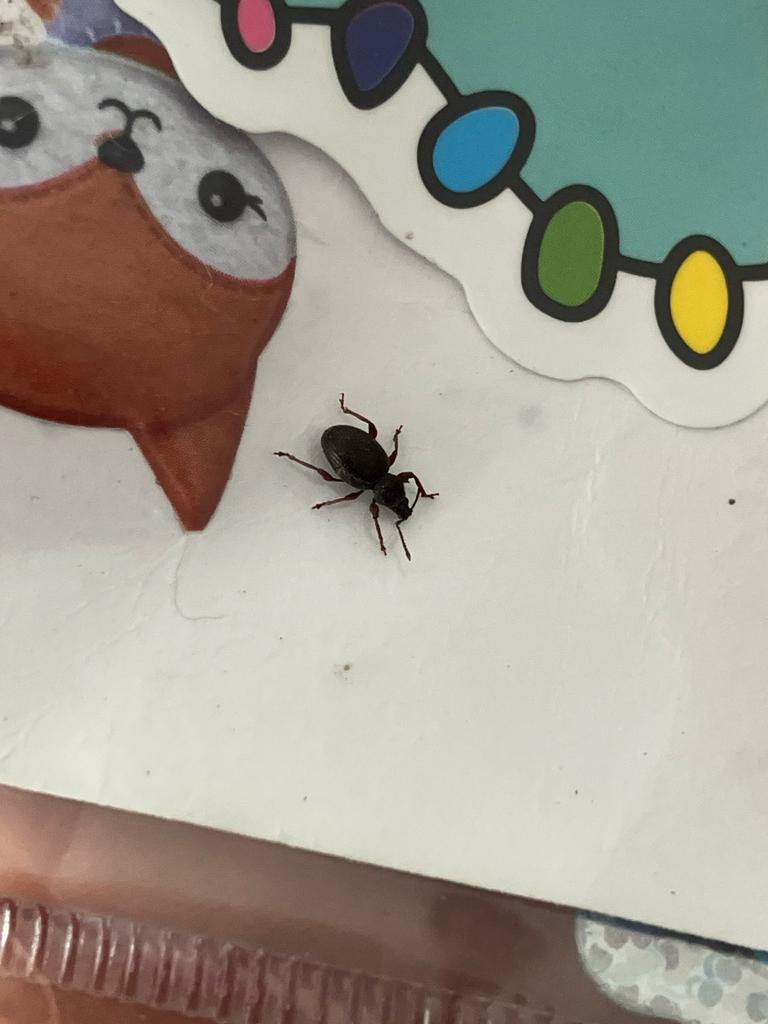weevils: (236, 356, 491, 589)
